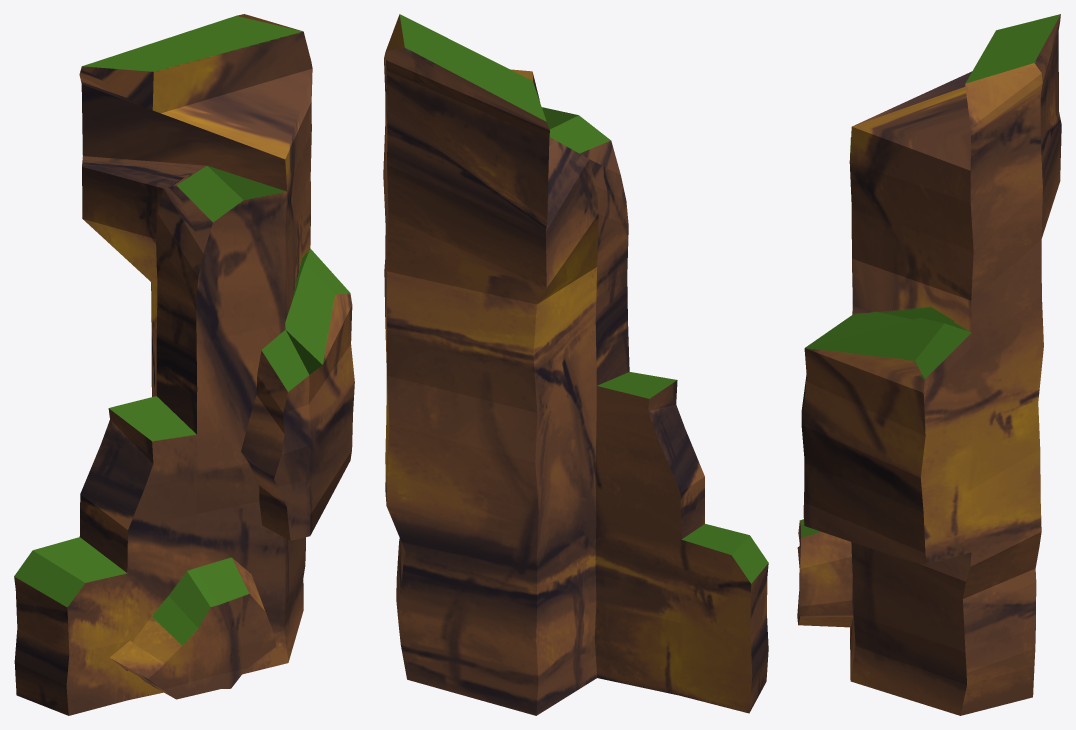
The model's file is sali11.obj.
3 views of the same model, side by side, from view 1: azimuth 30°, elevation 25°; view 2: azimuth 150°, elevation 25°; view 3: azimuth 270°, elevation 25° (orthographic). The views are drawn at different scales.
Visible parts, largest first — view 1: Cube_Cube.010; view 2: Cube_Cube.010; view 3: Cube_Cube.010.
Part boxes in pixels (<box>): Cube_Cube.010: <box>14,14,354,715</box>; Cube_Cube.010: <box>383,14,768,715</box>; Cube_Cube.010: <box>797,14,1061,715</box>.
Bounding box in the file's own units: 127 × 215 × 78.41.
Materials: 1 (1 with a texture image).
